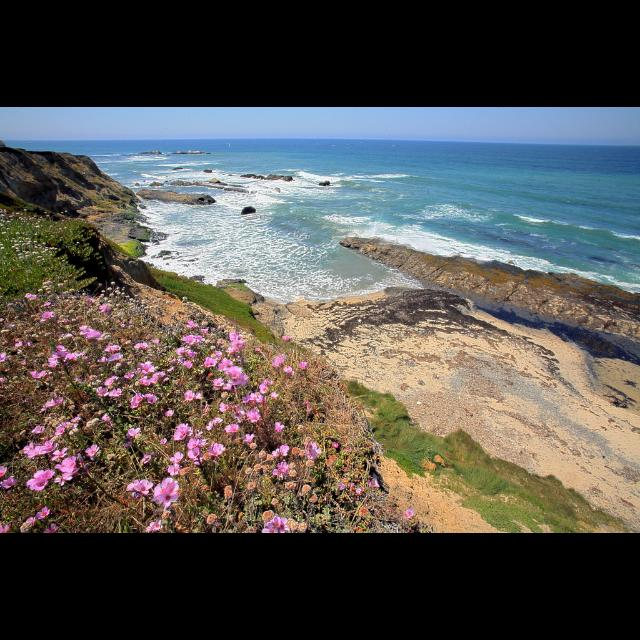Flower: (0, 205, 418, 533)
